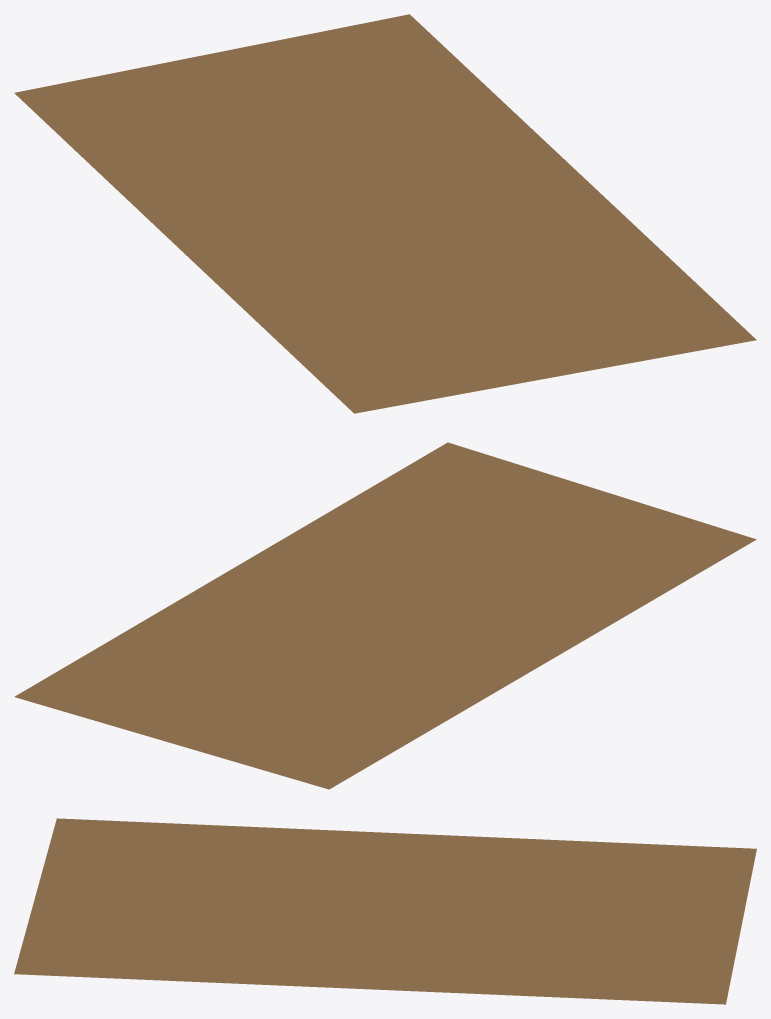
File: cell-270_-855.glb
The picture shows the model from 3 angles, top to bottom: view 1: azimuth 30°, elevation 25°; view 2: azimuth 150°, elevation 25°; view 3: azimuth 270°, elevation 25°; orthographic projection. The views are drawn at different scales.
Visible parts, largest first — view 1: cell-270_-855; view 2: cell-270_-855; view 3: cell-270_-855.
Part boxes in pixels (left/top/right/bottom): cell-270_-855: left=14, top=14, right=756, bottom=413; cell-270_-855: left=14, top=442, right=756, bottom=789; cell-270_-855: left=14, top=818, right=756, bottom=1004.
Size of the model in its own units: 11.88 by 0 by 20.03.
